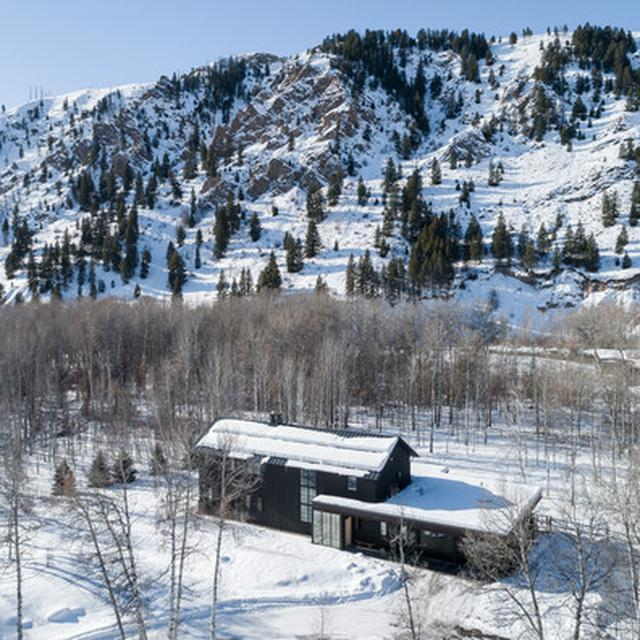building: (199, 384, 544, 582)
